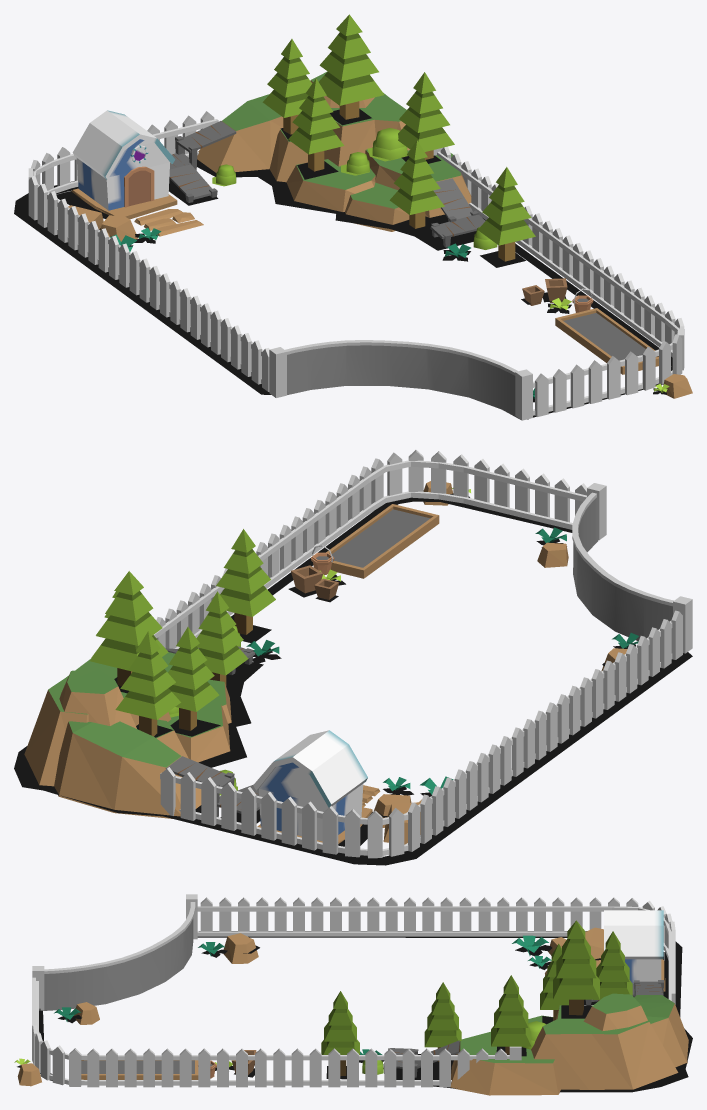
File: xweilan_1004_2.FBX
3 renders of one model, top to bottom at view 1: azimuth 30°, elevation 25°; view 2: azimuth 150°, elevation 25°; view 3: azimuth 270°, elevation 25°, orthographic. The views are drawn at different scales.
Parts seen in each view (by area): view 1: xweilan_1004_2; view 2: xweilan_1004_2; view 3: xweilan_1004_2.
Boxes of the visible parts, x1,y1,x2,y2 form: xweilan_1004_2: (14,14,692,420); xweilan_1004_2: (14,450,692,865); xweilan_1004_2: (14,894,692,1095).
Bounding box in the file's own units: 4418 × 1900 × 7727.
